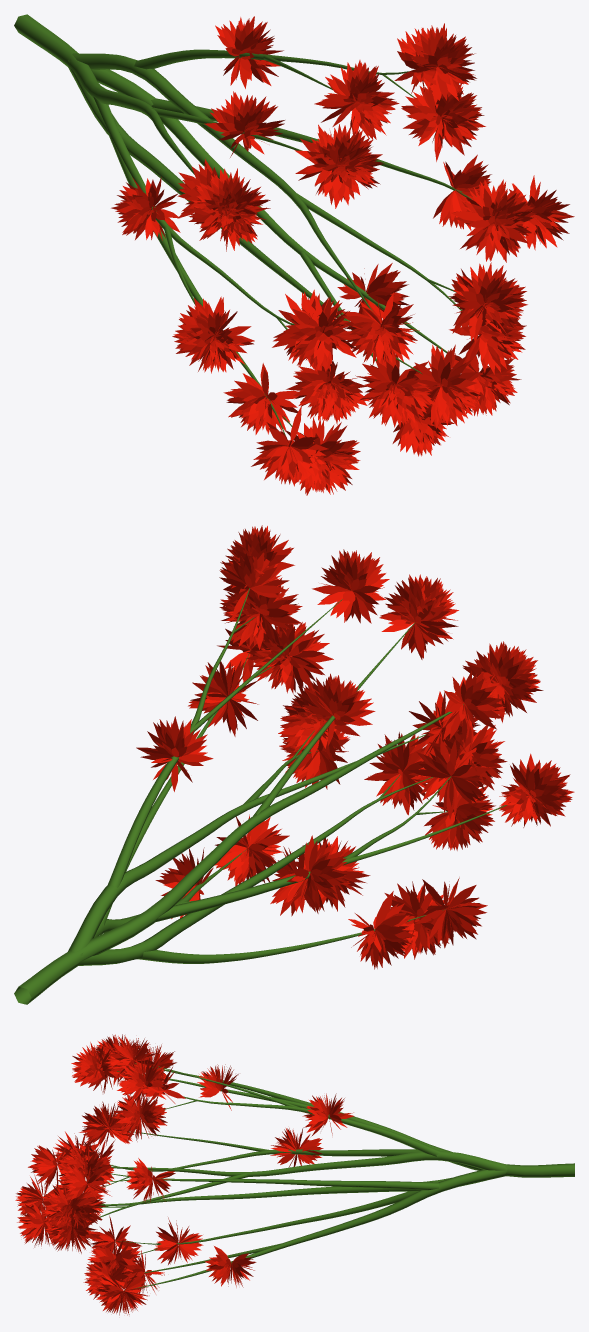
Rendered from flower.gltf.
3 views of the same model, one above another, from view 1: azimuth 30°, elevation 25°; view 2: azimuth 150°, elevation 25°; view 3: azimuth 270°, elevation 25° (orthographic). The views are drawn at different scales.
Visible parts, largest first — view 1: Node2, Node1; view 2: Node2, Node1; view 3: Node2, Node1.
Part boxes in pixels (box(x1,y1,x2,y2)): Node2: box(111, 16, 574, 495); Node1: box(14, 14, 476, 435); Node2: box(136, 525, 574, 969); Node1: box(14, 588, 506, 1004); Node2: box(15, 1034, 354, 1315); Node1: box(99, 1063, 574, 1290).
Size of the model in its own units: 4.19 by 4.47 by 8.3.
